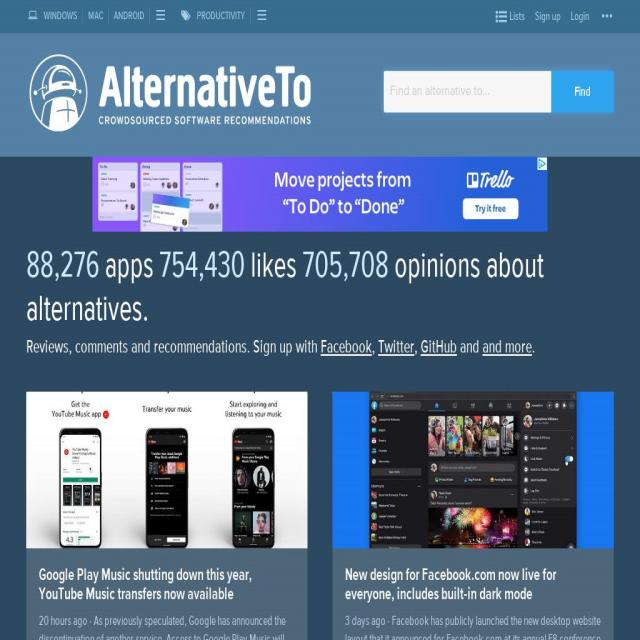login-option: (569, 5, 595, 30)
navigation-blocks: (18, 376, 622, 640), (247, 332, 538, 370)
navigation-links: (18, 0, 284, 35)
options: (488, 3, 532, 30), (252, 3, 274, 32), (150, 5, 170, 28), (598, 5, 618, 25)
search: (371, 58, 619, 125)
sign-up-option: (534, 5, 561, 28)
